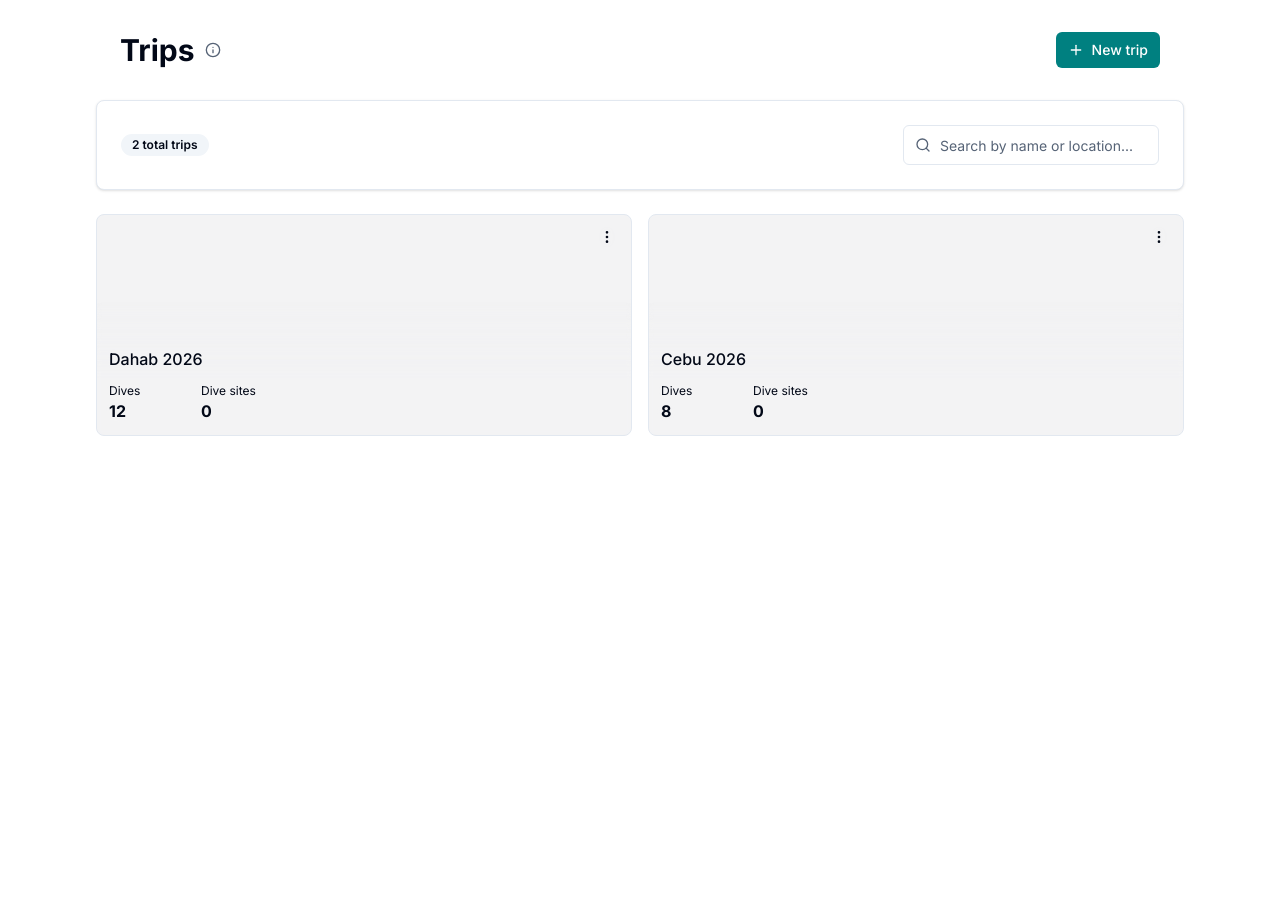
Test: TripsPageContent › reads the list again when a delete moves the trip's dives
This screenshot has width=1280, height=900.
Check: the link "Dahab 2026" is shown, box [109,349,203,369]
Click the button named "Actions for Dahab 2026" at [607, 237], box [587,219,627,255]
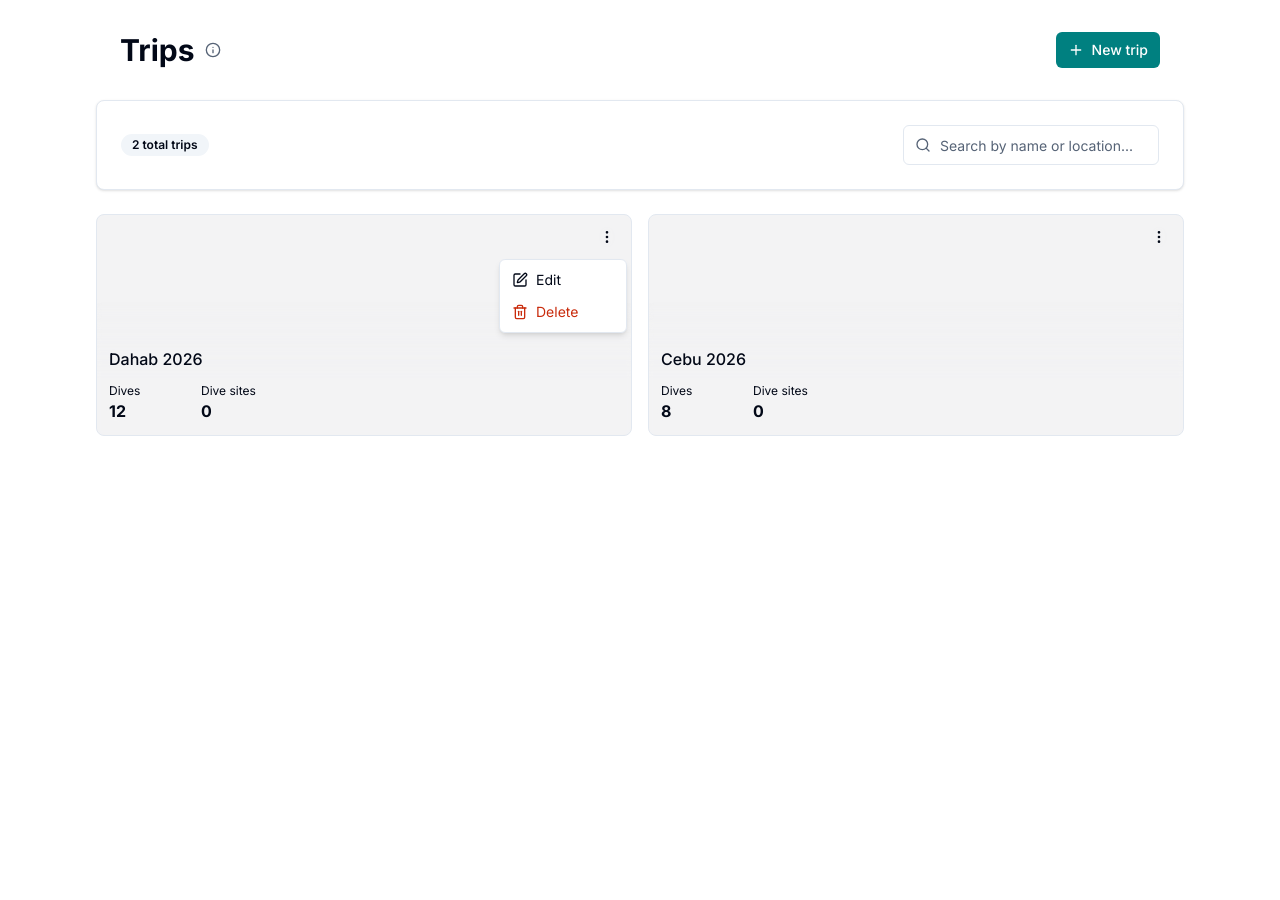
Click the menu item "Delete" at [545, 312], box [512,303,578,320]
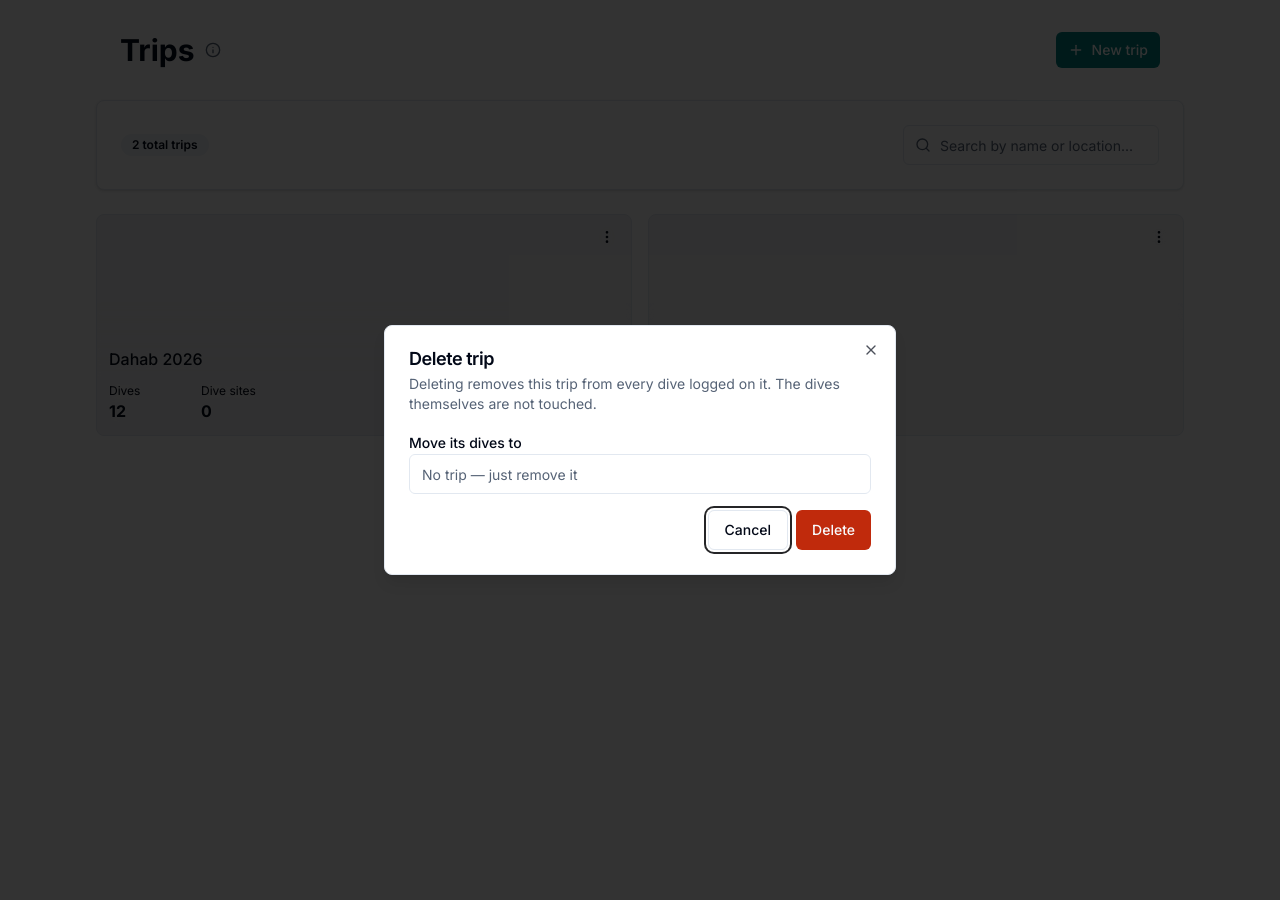
Click the dropdown at [640, 474], box [409,454,871,494]
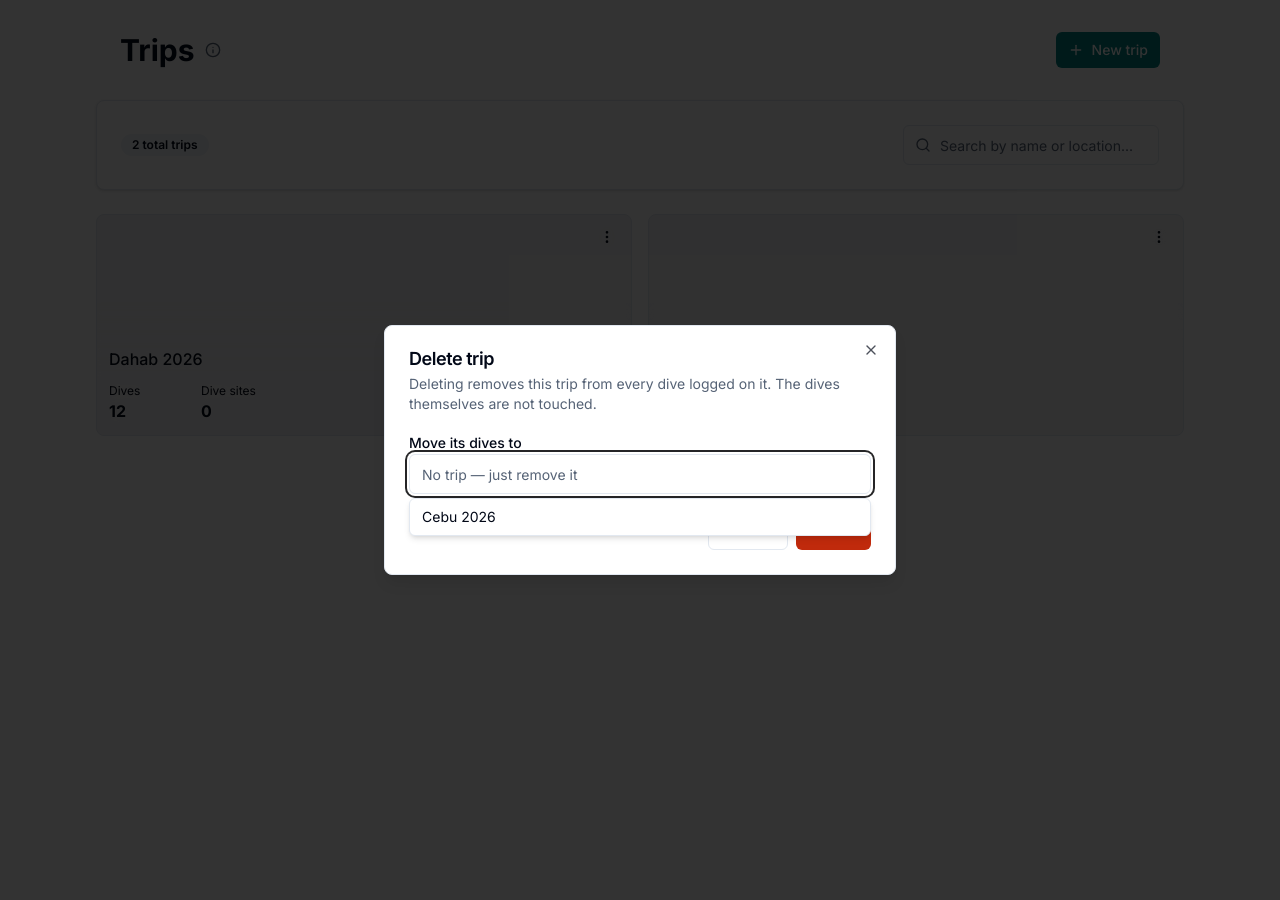
Click the option "Cebu 2026" at [459, 516], box [410,499,870,535]
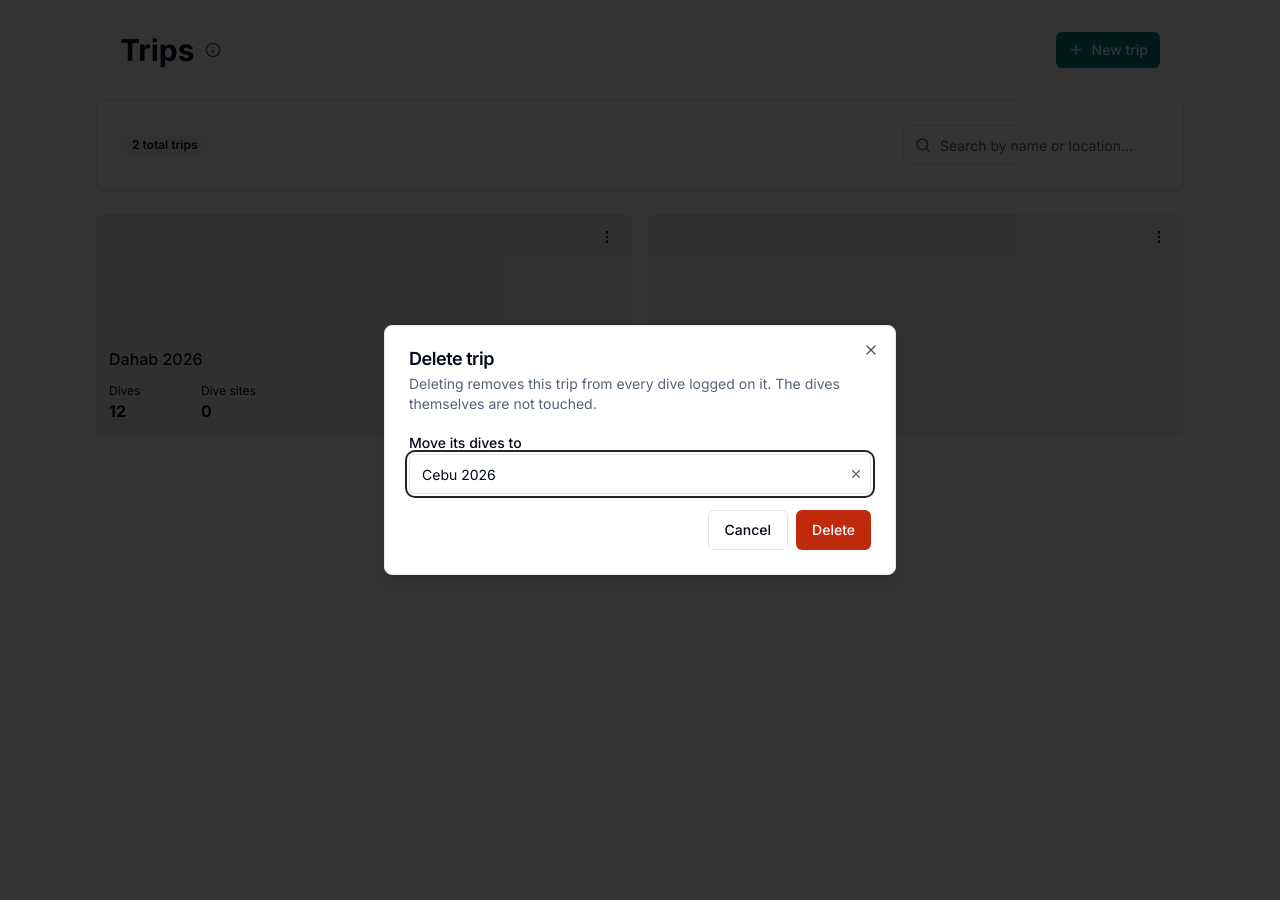
Click the button "Delete" at [834, 530], box [796,510,871,550]
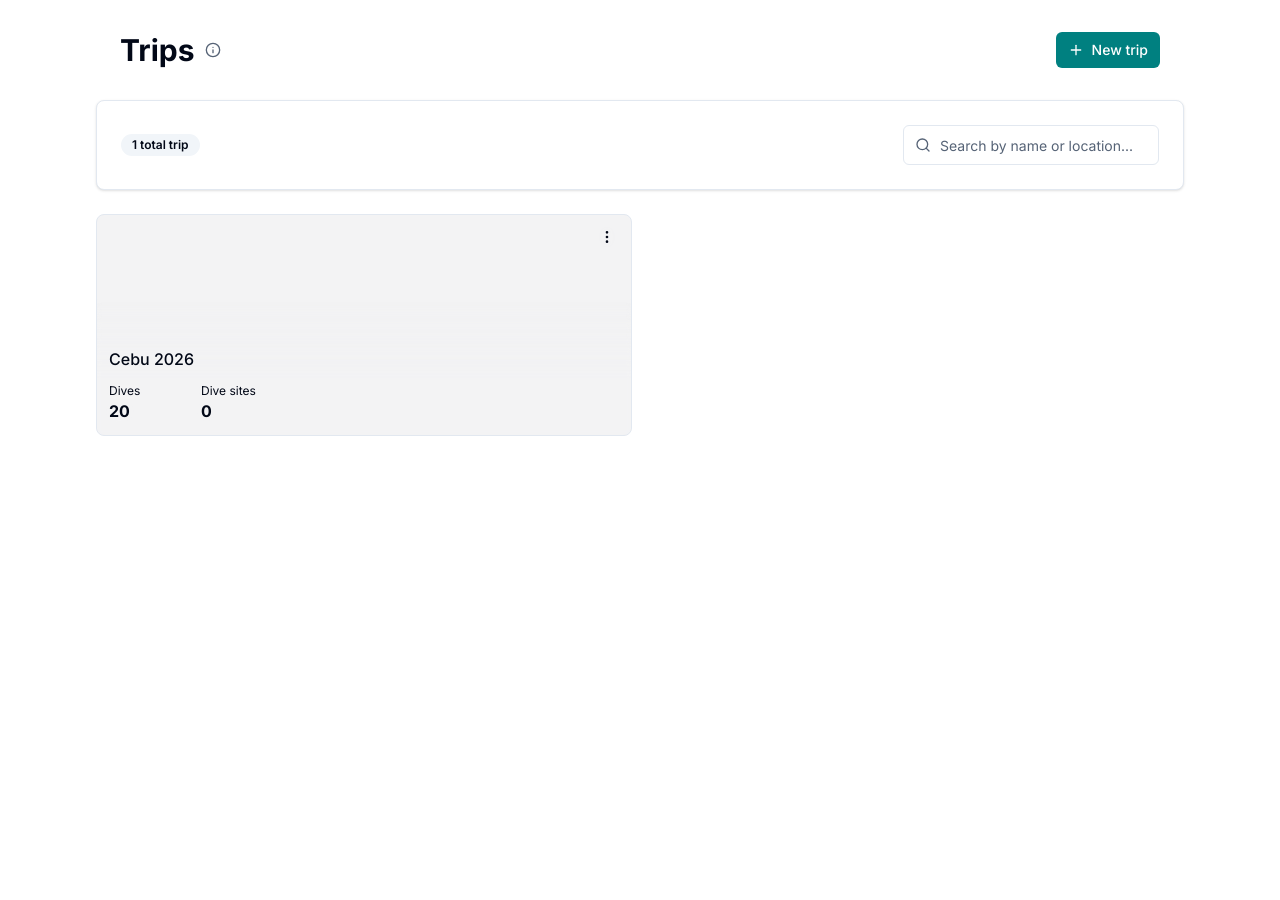
Check: the text "20" is shown, box [109,401,130,421]
Check: the link "Dahab 2026" is gone
